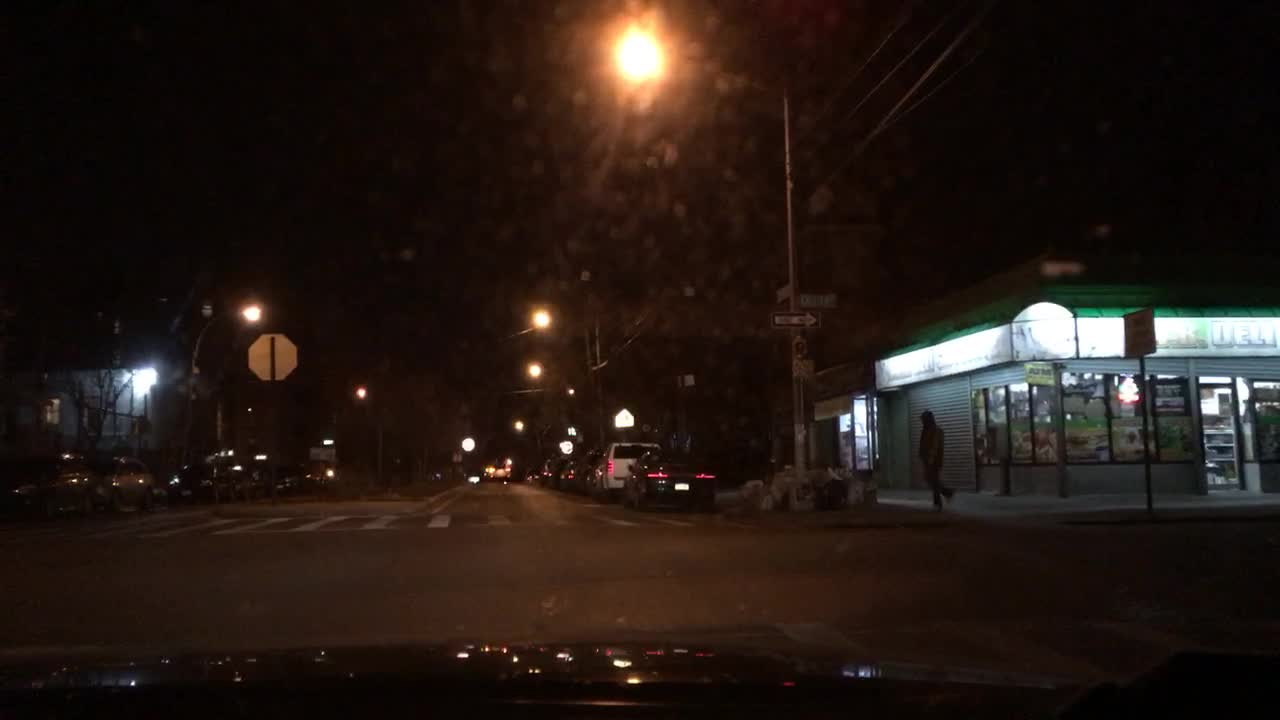car: (1, 448, 95, 518), (622, 446, 719, 510), (167, 441, 244, 504), (592, 439, 662, 497), (95, 452, 155, 516), (236, 452, 278, 493), (573, 444, 603, 490), (268, 459, 307, 492), (554, 456, 579, 488), (538, 455, 560, 485), (305, 466, 338, 486), (485, 458, 513, 477), (525, 465, 541, 481)
person: (916, 407, 955, 512)
traffic sign: (247, 333, 296, 379), (1125, 306, 1155, 352), (773, 310, 819, 329), (797, 294, 842, 306), (612, 406, 635, 427), (774, 283, 791, 305)
